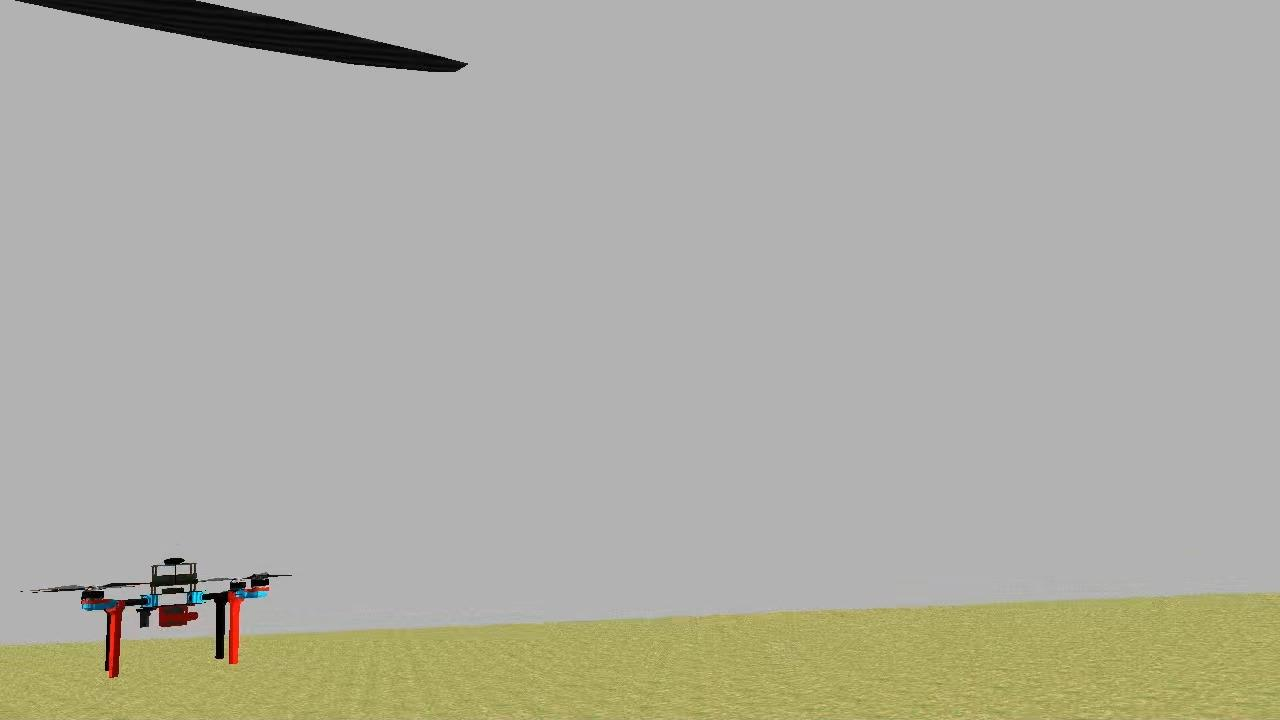UAV: (70, 544, 274, 678)
